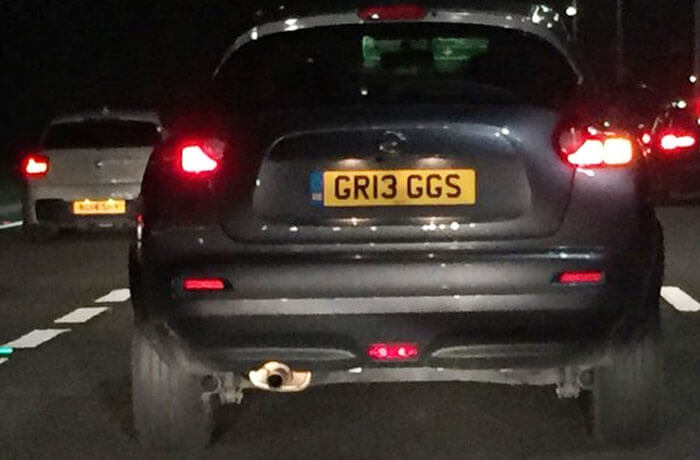license plate: (308, 167, 475, 204)
